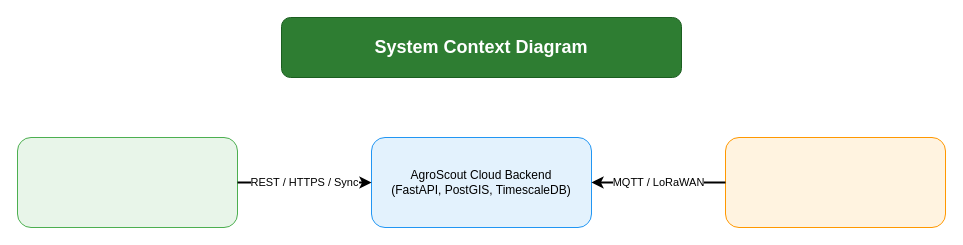
This 963x245 diagram has some shape labels left out. The centre of each missing label's shape, as x and y in pixels:
"Edge IoT Rover & Sensors (ESP32, CM4, Multispectral Cam)" goes at (835,182).
"Flutter Mobile Client (Offline Cache & On-Device TFLite)" goes at (127,182).
